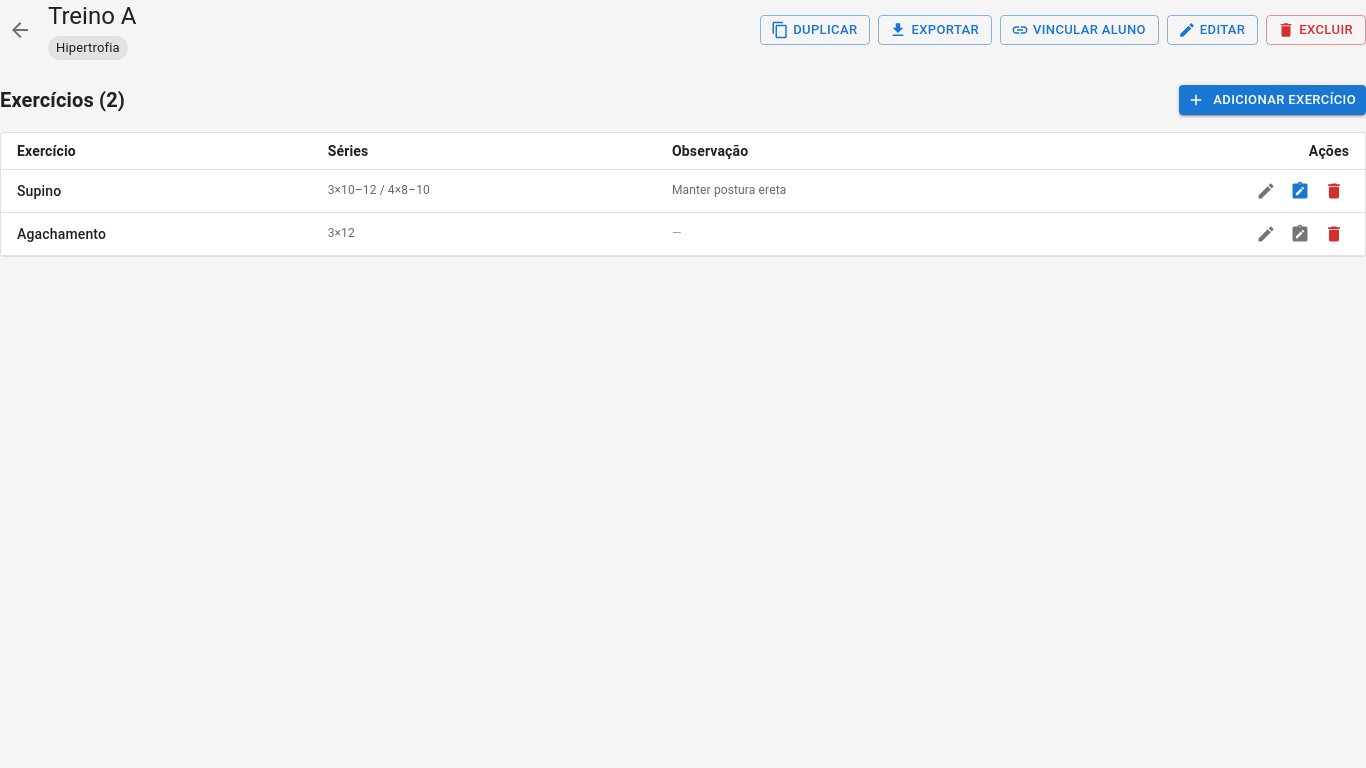
Test: DetalheFichaPage — Remover exercício › confirma remoção via ConfirmDialog, envia DELETE e mostra banner de sucesso
Step 1. Click the button named "Remover exercício" in the row of "Agachamento" → point(1334, 234), box x1=1319 y1=219 x2=1349 y2=249
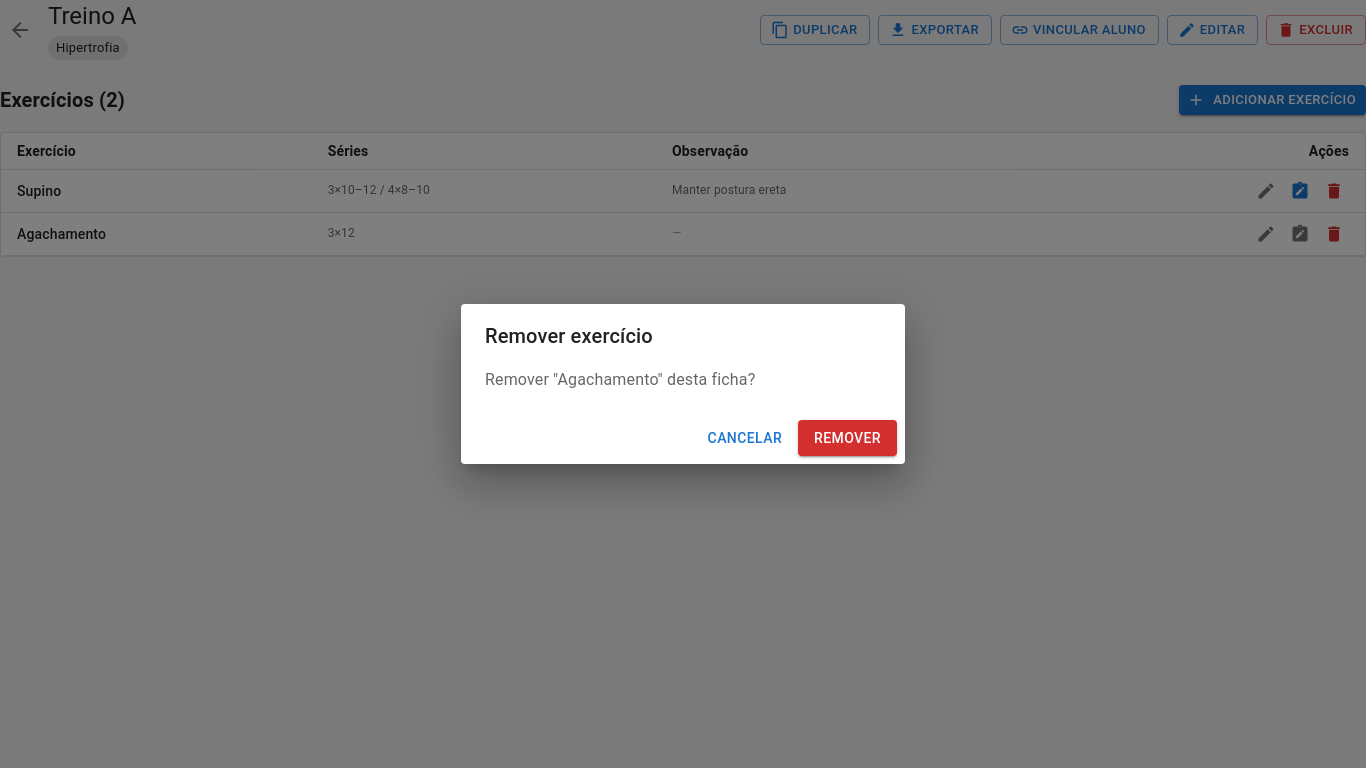
expect the text "Remover \"Agachamento\" desta ficha?" is shown: met, box x1=485 y1=370 x2=755 y2=389
Step 2. Click the button "Remover" → point(848, 438), box x1=798 y1=420 x2=897 y2=456
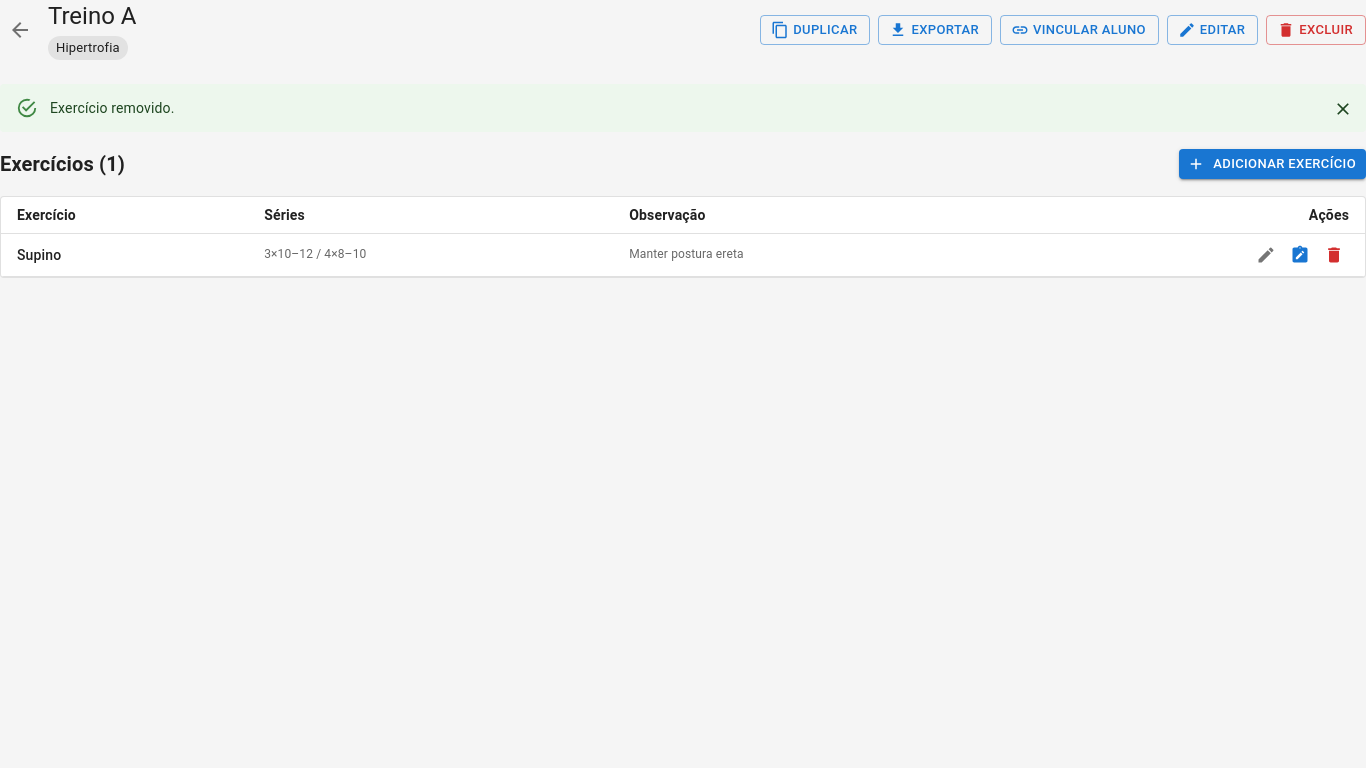
expect the text "Exercício removido." is shown: met, box x1=50 y1=100 x2=175 y2=116
